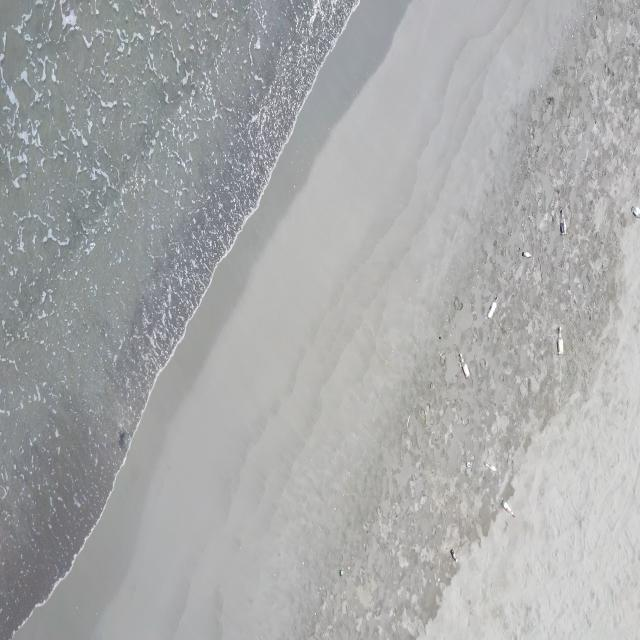glass: (458, 354, 471, 378), (487, 296, 499, 320), (557, 324, 565, 358), (502, 500, 516, 518), (560, 208, 568, 238), (484, 461, 498, 474), (522, 250, 532, 260), (632, 206, 640, 218), (451, 549, 458, 562), (466, 458, 473, 470), (339, 569, 344, 577)
